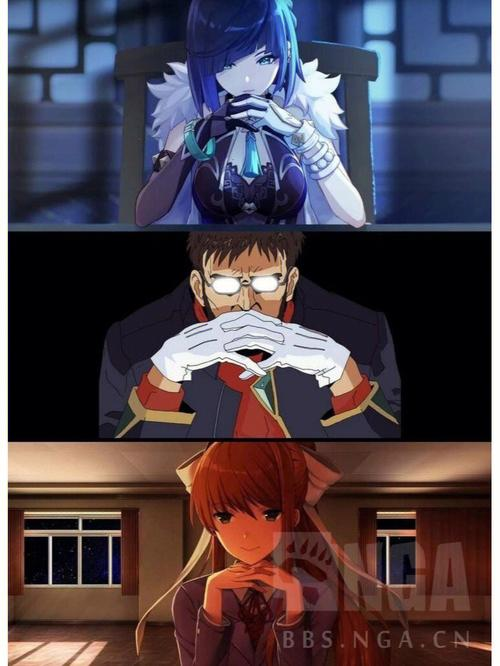夜兰: (133, 3, 367, 231)
